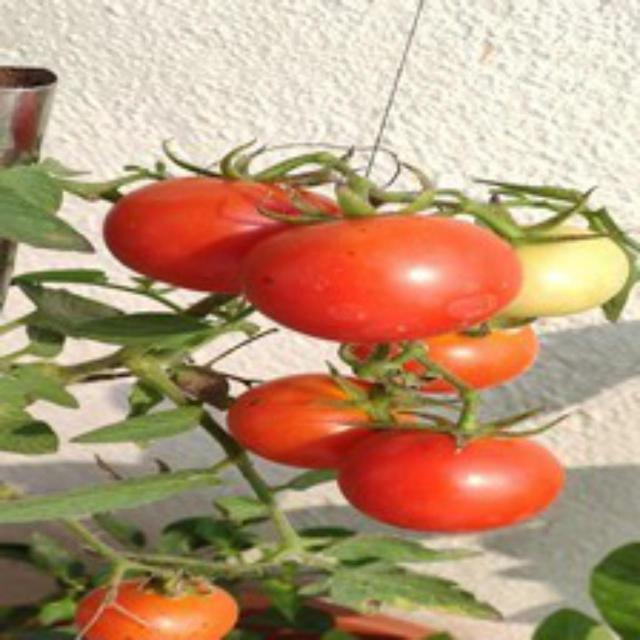tomato: (231, 210, 535, 340), (338, 428, 566, 533)
